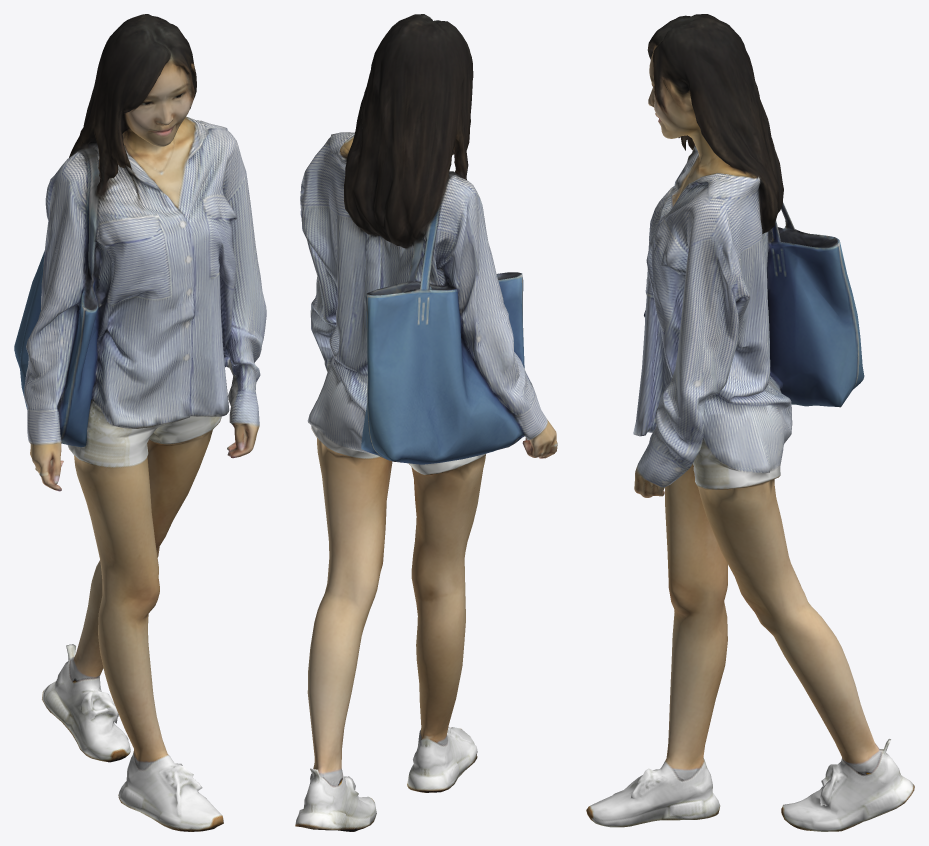
The picture shows the model from 3 angles, left to right: view 1: azimuth 30°, elevation 25°; view 2: azimuth 150°, elevation 25°; view 3: azimuth 270°, elevation 25°; orthographic projection. The views are drawn at different scales.
Visible parts, largest first — view 1: Mesh_0; view 2: Mesh_0; view 3: Mesh_0.
Part boxes in pixels (left/top/right/bottom): Mesh_0: left=14, top=14, right=266, bottom=831; Mesh_0: left=295, top=14, right=557, bottom=831; Mesh_0: left=586, top=14, right=914, bottom=831.
Size of the model in its own units: 0.5474 by 1.7 by 0.638.
1 material, 1 textured.
